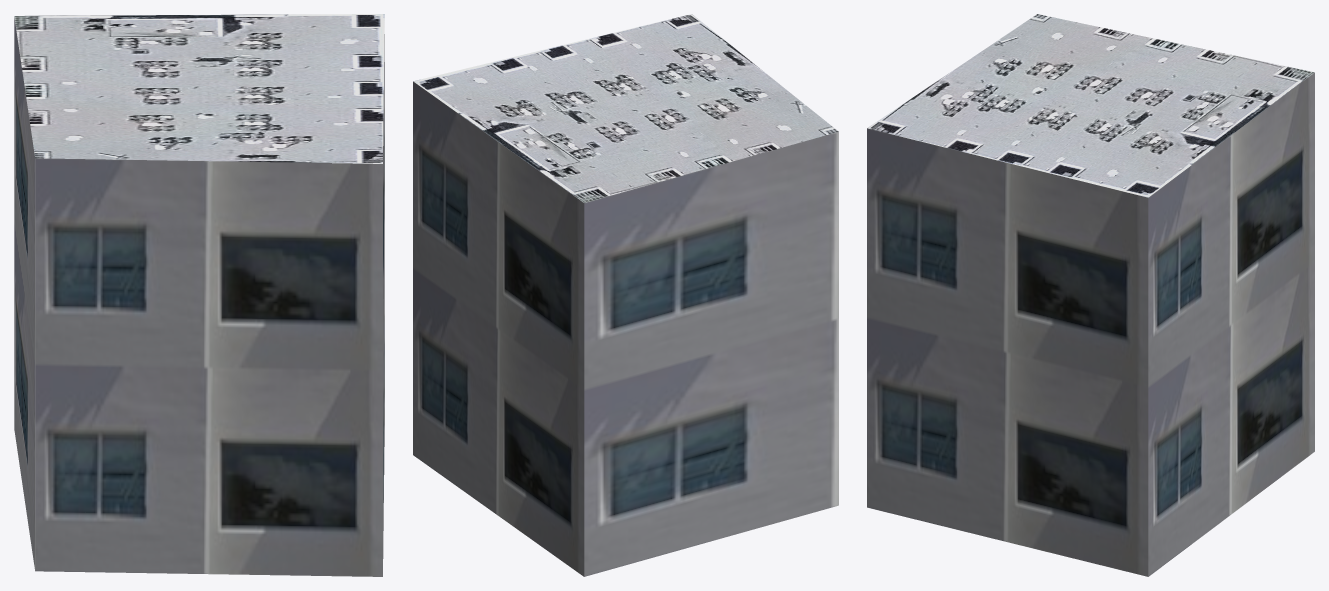
The model's file is ResTex__3036.fbx.
The picture shows the model from 3 angles, left to right: view 1: azimuth 30°, elevation 25°; view 2: azimuth 150°, elevation 25°; view 3: azimuth 270°, elevation 25°; orthographic projection. The views are drawn at different scales.
Visible parts, largest first — view 1: CityEngineMaterial_10_m, CityEngineMaterial_4_m; view 2: CityEngineMaterial_10_m, CityEngineMaterial_4_m; view 3: CityEngineMaterial_10_m, CityEngineMaterial_4_m.
Boxes of the visible parts, bbox=[...] form: CityEngineMaterial_10_m: bbox=[14, 17, 384, 576]; CityEngineMaterial_4_m: bbox=[14, 14, 384, 163]; CityEngineMaterial_10_m: bbox=[413, 81, 838, 576]; CityEngineMaterial_4_m: bbox=[413, 14, 838, 202]; CityEngineMaterial_10_m: bbox=[867, 72, 1314, 576]; CityEngineMaterial_4_m: bbox=[867, 14, 1314, 197].
Bounding box in the file's own units: 6.23 × 6 × 6.42.
Materials: 2 (2 with a texture image).
